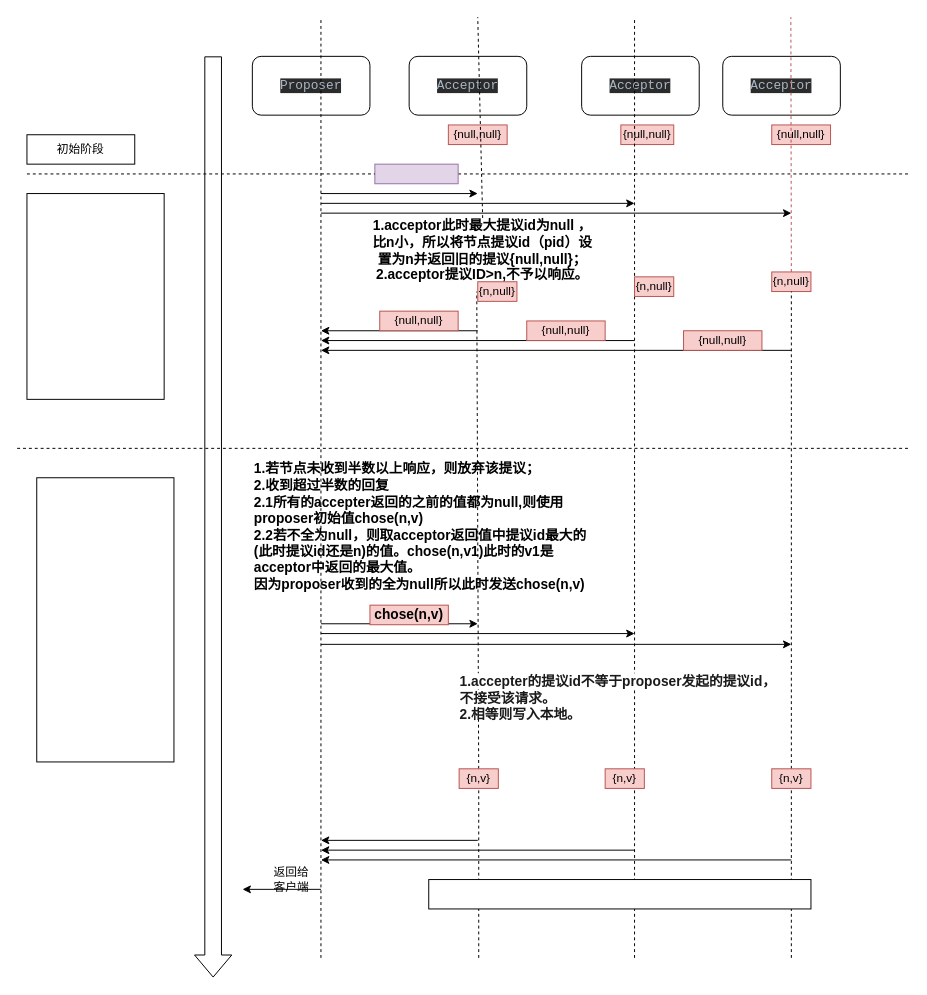
This 927x995 diagram has some shape labels left out. The centre of each missing label's shape, as x and y in pixels:
"Prepare （n）" goes at point 416,173.
"Proposer 广播Prepare（n）请求" goes at point 95,296.
"并将接收的值通知leaner" goes at point 619,894.
"提交协议" goes at point 105,619.
